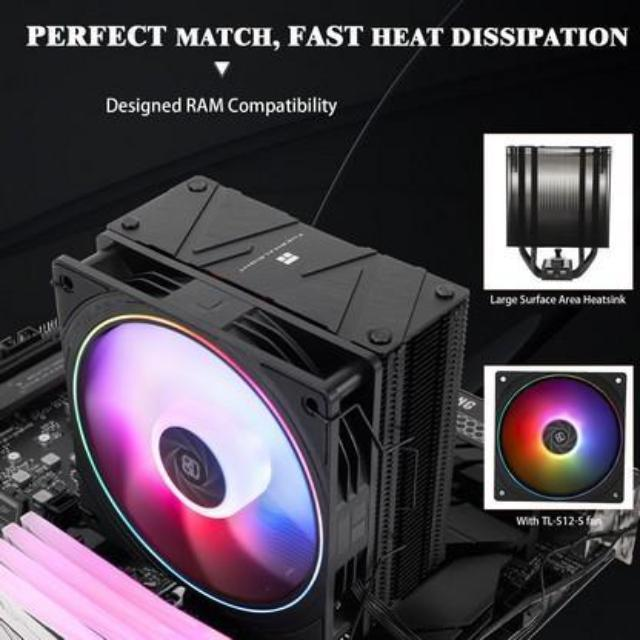CPU_Fan: (54, 173, 468, 636)
